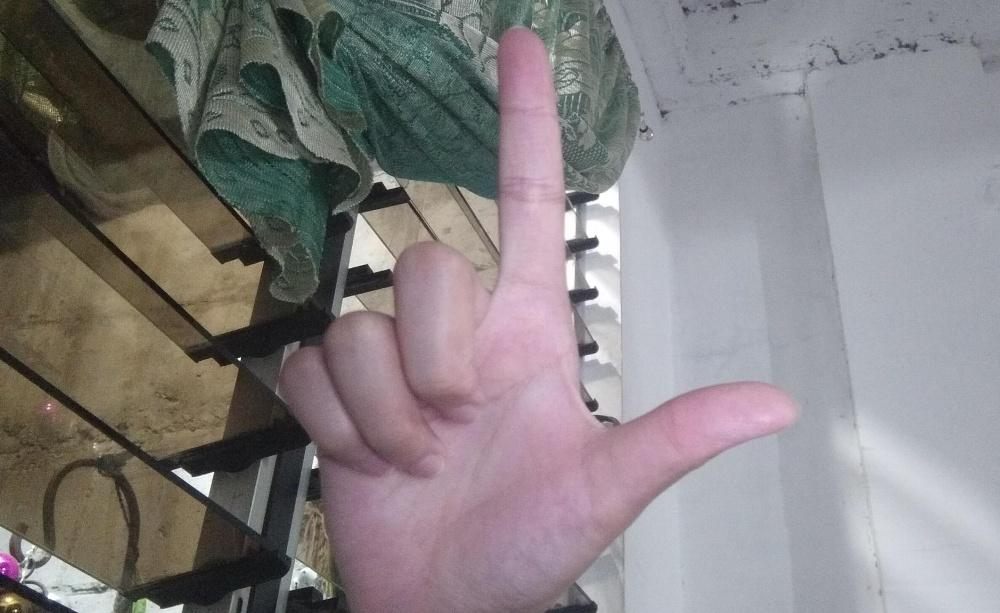l: (278, 23, 799, 612)
